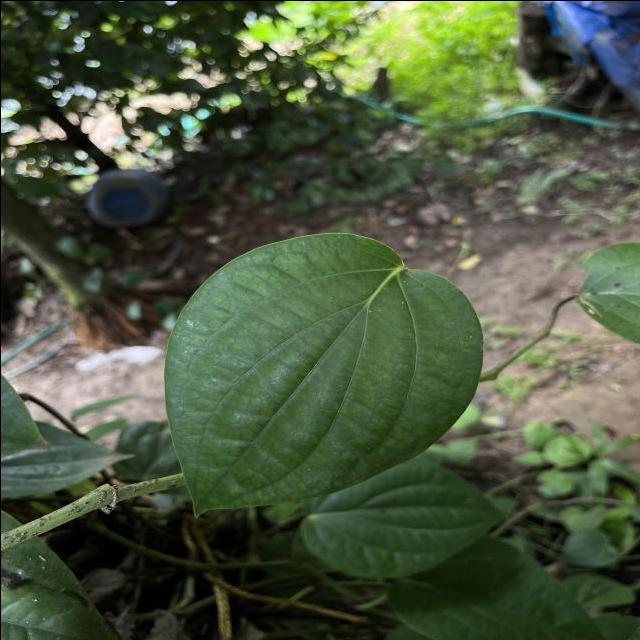Piper nigrum: (160, 229, 484, 519)
